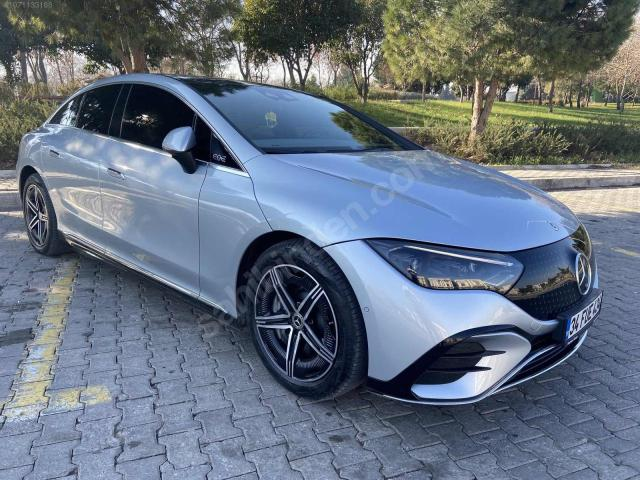plaka: (566, 292, 601, 340)
